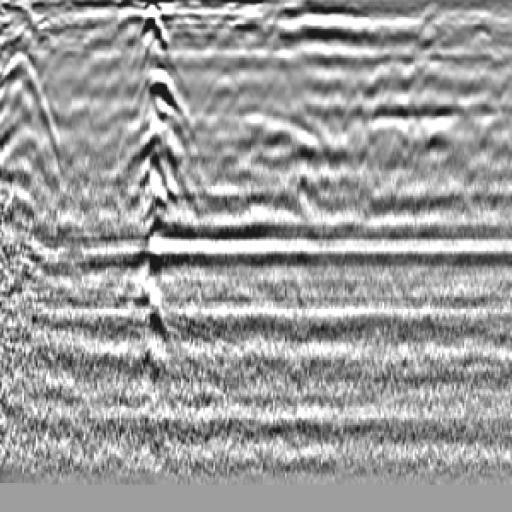metalic: (115, 8, 195, 417)
nonmetalic: (215, 78, 356, 239), (1, 36, 70, 264)
